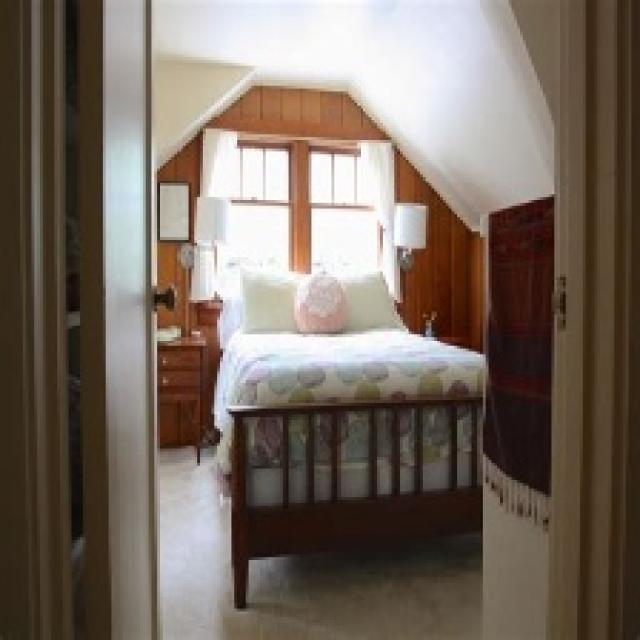Bed: (211, 263, 486, 608)
